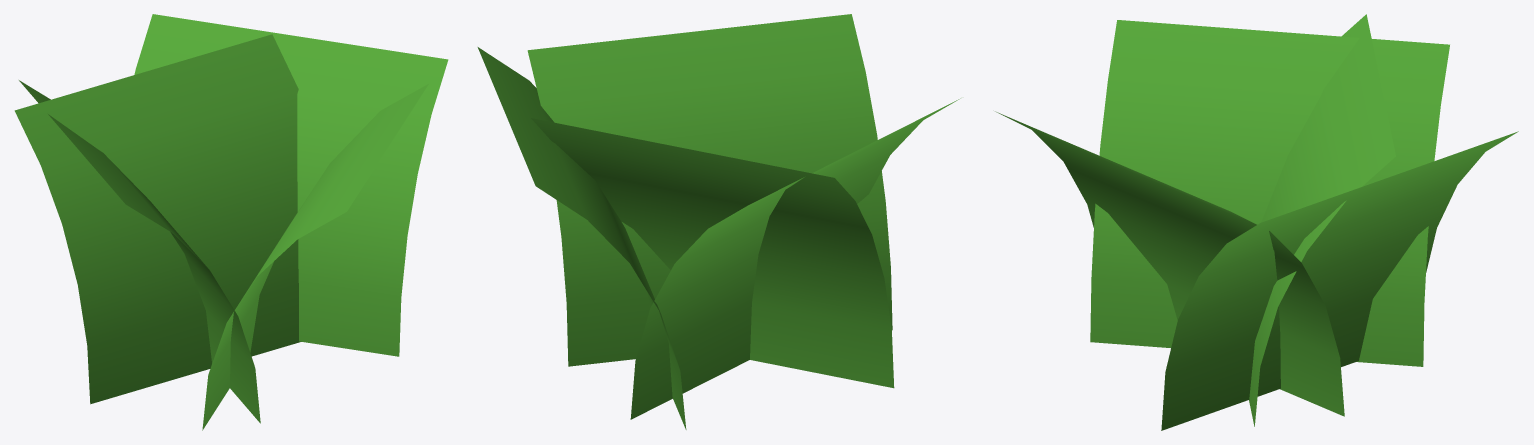
File: SM_grass_small.fbx
3 views of the same model, side by side, from view 1: azimuth 30°, elevation 25°; view 2: azimuth 150°, elevation 25°; view 3: azimuth 270°, elevation 25° (orthographic). The views are drawn at different scales.
Visible parts, largest first — view 1: Plane1412183232; view 2: Plane1412183232; view 3: Plane1412183232.
Part boxes in pixels (x1,y1,x2,y2): Plane1412183232: (14, 14, 448, 430); Plane1412183232: (477, 14, 960, 429); Plane1412183232: (995, 14, 1518, 430).
Bounding box in the file's own units: 49.99 × 30.42 × 54.57.
